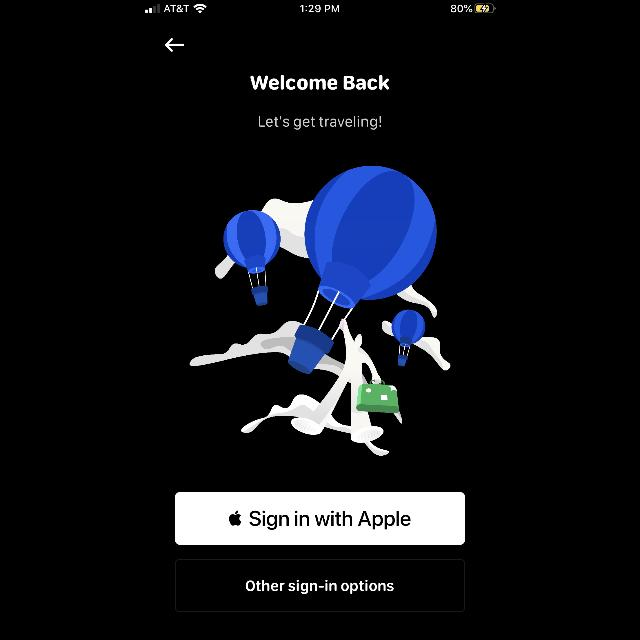icon: (164, 38, 184, 52)
image: (189, 166, 451, 457)
text: (251, 74, 389, 90), (259, 116, 381, 130)
textbutton: (175, 560, 465, 612), (175, 492, 465, 544)
uppertaskbar: (140, 0, 500, 14)
